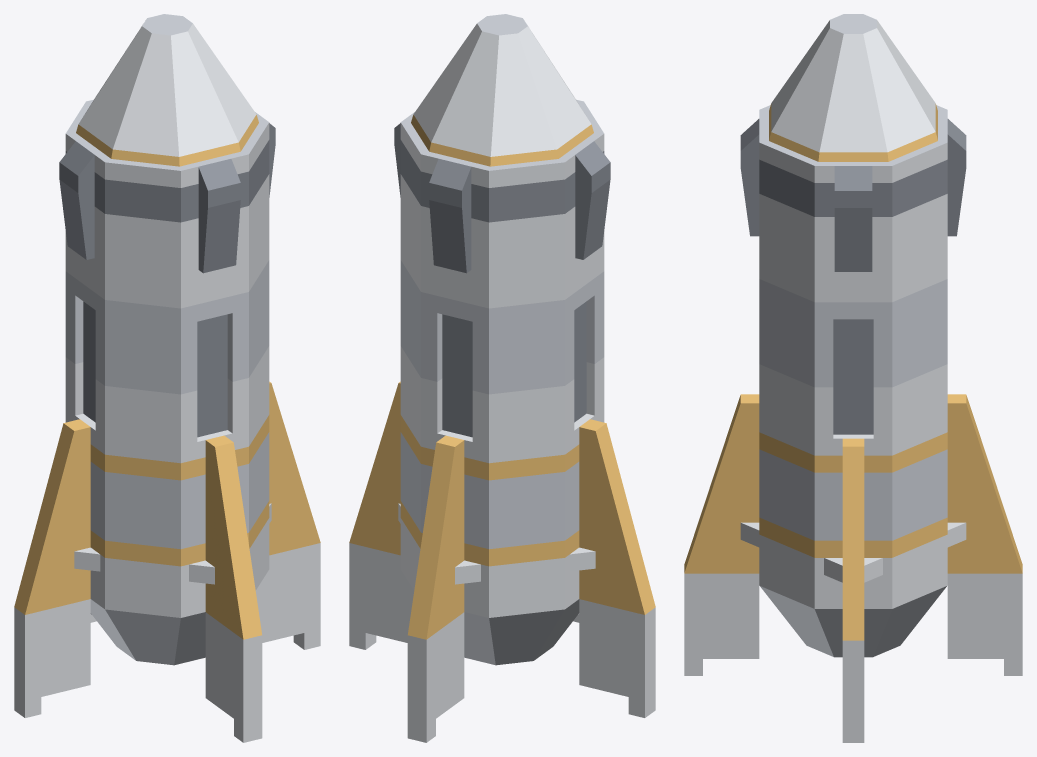
Rendered from rocketA.glb.
3 views of the same model, side by side, from view 1: azimuth 30°, elevation 25°; view 2: azimuth 150°, elevation 25°; view 3: azimuth 270°, elevation 25° (orthographic).
Visible parts, largest first — view 1: rocket_baseA; view 2: rocket_baseA; view 3: rocket_baseA.
Boxes of the visible parts, x1,y1,x2,y2 form: rocket_baseA: [14, 14, 320, 742]; rocket_baseA: [349, 14, 655, 742]; rocket_baseA: [684, 14, 1022, 742].
Size of the model in its own units: 1.8 by 3.8 by 1.8.
